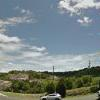Tree: (43, 77, 80, 93)
